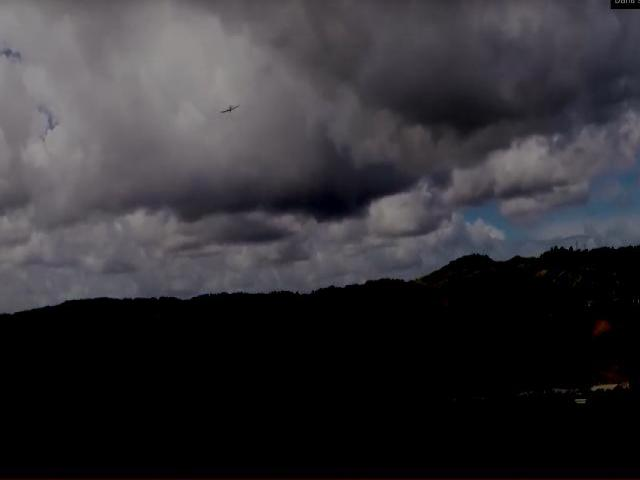iha: (218, 102, 244, 117)
